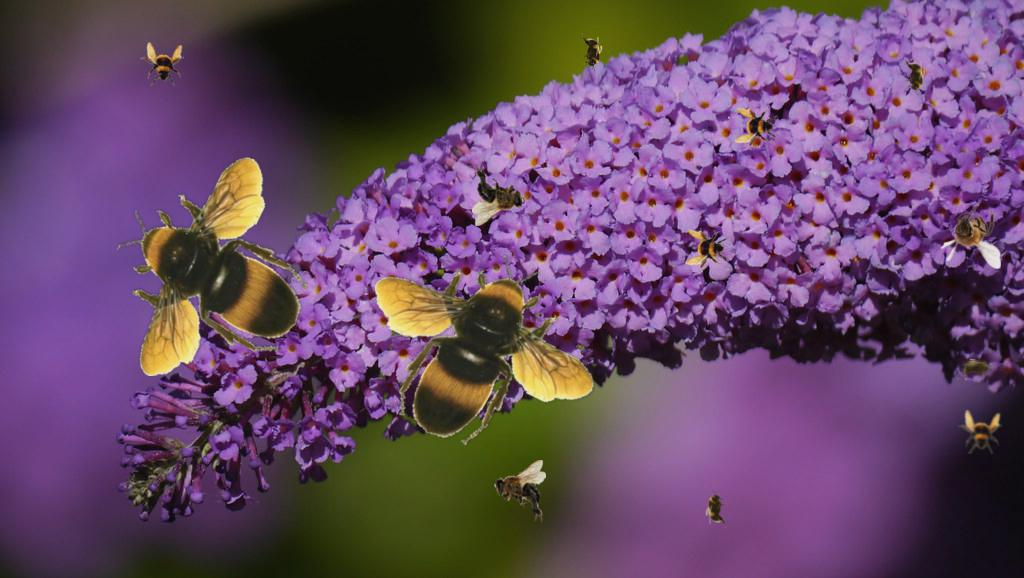Bee: (375, 254, 595, 445), (117, 156, 308, 376), (940, 199, 1001, 269), (472, 164, 525, 226), (493, 460, 546, 522), (685, 228, 729, 272), (140, 42, 184, 86), (958, 410, 1002, 454), (734, 106, 778, 150), (904, 57, 926, 97), (705, 488, 727, 528), (957, 358, 997, 380), (581, 33, 603, 73)
